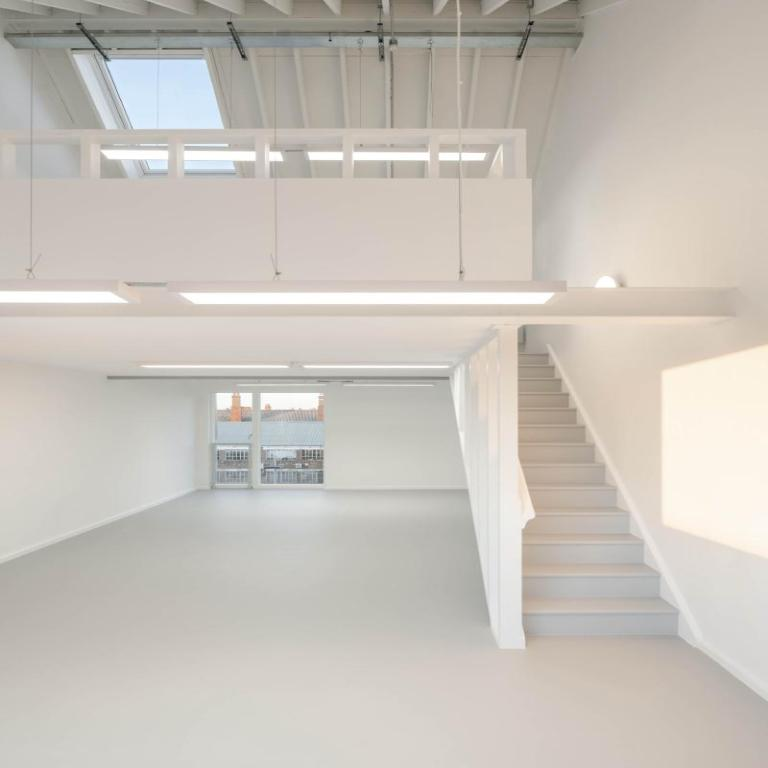white-walls: (27, 393, 186, 535)
